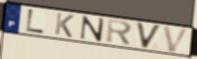K: (54, 12, 76, 39)
L: (25, 8, 47, 35)
N: (78, 15, 106, 43)
R: (105, 18, 134, 47)
V: (135, 21, 164, 50), (162, 25, 191, 54)
